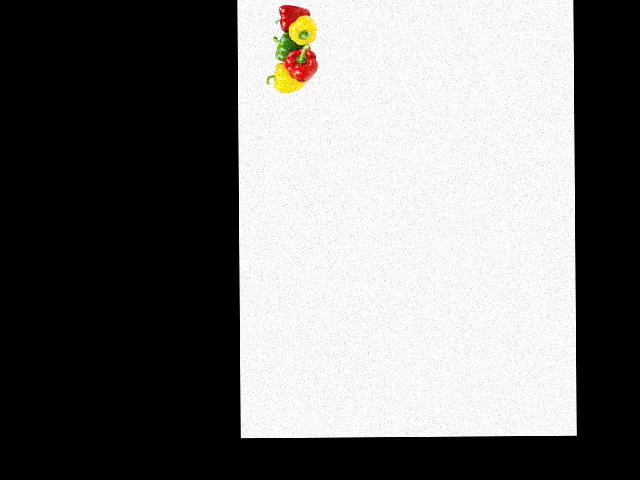bell_pepper: (274, 2, 306, 31)
